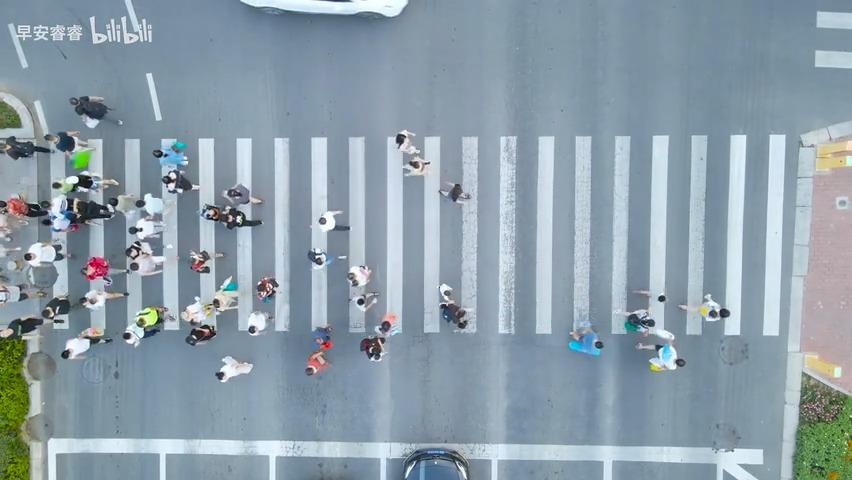Civilian: (122, 305, 175, 347), (124, 240, 179, 274), (69, 94, 123, 128), (19, 237, 73, 271), (198, 203, 263, 230), (60, 327, 112, 359), (345, 264, 379, 312), (52, 170, 119, 194), (677, 293, 730, 322), (437, 282, 469, 329), (634, 341, 681, 371), (0, 135, 55, 160), (43, 129, 89, 158), (43, 198, 99, 220), (568, 322, 604, 356), (613, 308, 655, 336), (180, 295, 220, 324), (304, 335, 332, 375), (0, 282, 48, 305), (3, 192, 41, 221), (135, 192, 174, 220), (78, 289, 129, 310), (215, 355, 253, 383), (152, 139, 189, 167), (221, 182, 264, 206), (39, 215, 87, 236), (80, 256, 112, 286), (161, 169, 199, 194), (0, 316, 43, 338), (188, 248, 225, 273), (359, 334, 387, 362), (317, 209, 351, 232), (185, 323, 217, 346), (438, 182, 471, 203), (246, 310, 273, 335), (348, 291, 379, 312), (395, 129, 420, 155), (256, 276, 279, 302), (345, 264, 371, 287), (402, 154, 430, 175), (307, 247, 333, 269), (374, 313, 398, 336), (632, 288, 666, 302)
